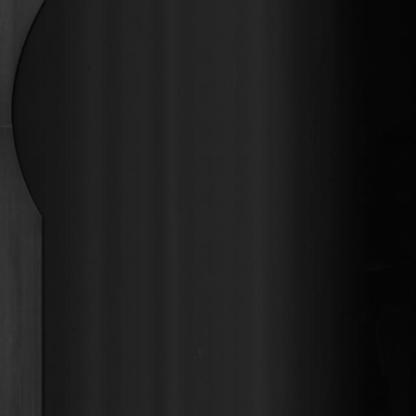crescent_gap: (8, 0, 55, 229)
